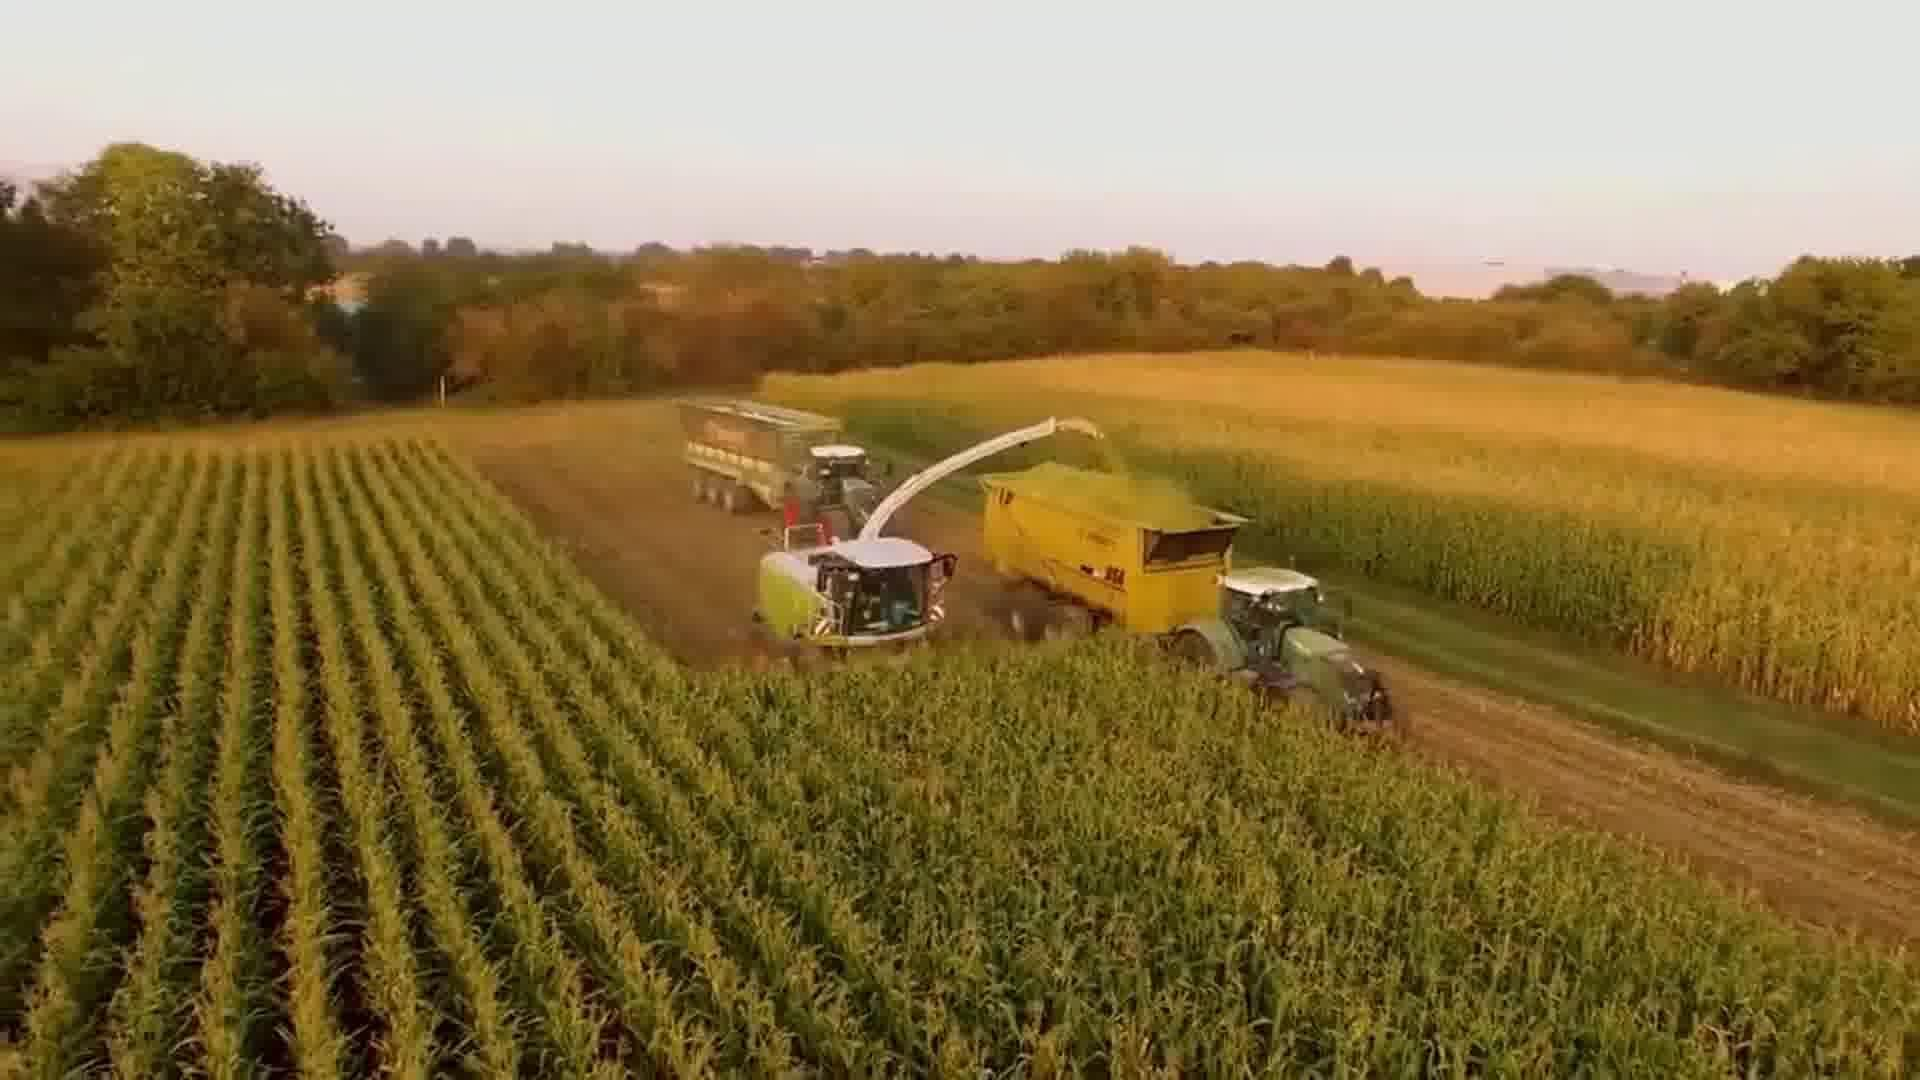combine harvester: (742, 414, 1065, 684)
tractor: (1155, 558, 1411, 762), (775, 435, 909, 538)
trailer: (973, 450, 1253, 669), (675, 384, 841, 522)
